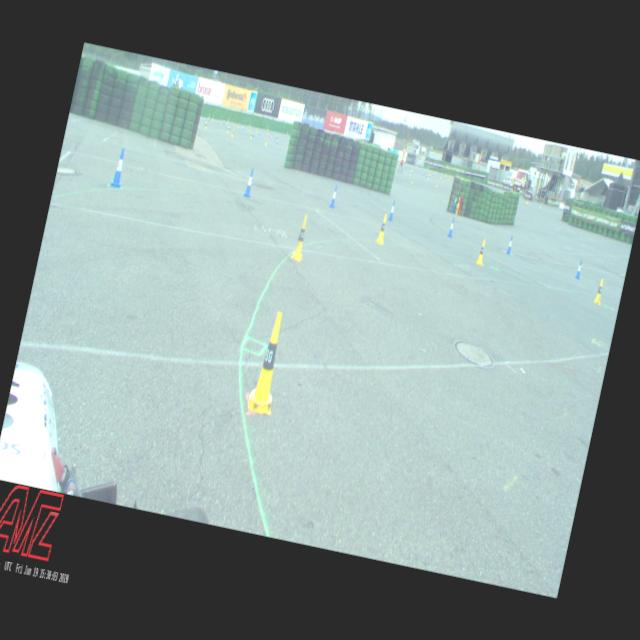blue_cone: (110, 147, 128, 188), (243, 168, 256, 198), (328, 184, 338, 208), (574, 259, 583, 279), (388, 200, 397, 220), (448, 217, 456, 237), (505, 236, 513, 254), (276, 138, 278, 144), (204, 120, 206, 126)
yellow_cone: (246, 309, 291, 415), (290, 213, 310, 262), (376, 213, 388, 244), (593, 278, 605, 304), (476, 238, 487, 264), (230, 128, 234, 136), (264, 137, 268, 145), (205, 120, 208, 128), (237, 121, 240, 128), (226, 126, 229, 132), (436, 179, 438, 186), (410, 176, 412, 183), (426, 173, 428, 180), (250, 132, 252, 138)
